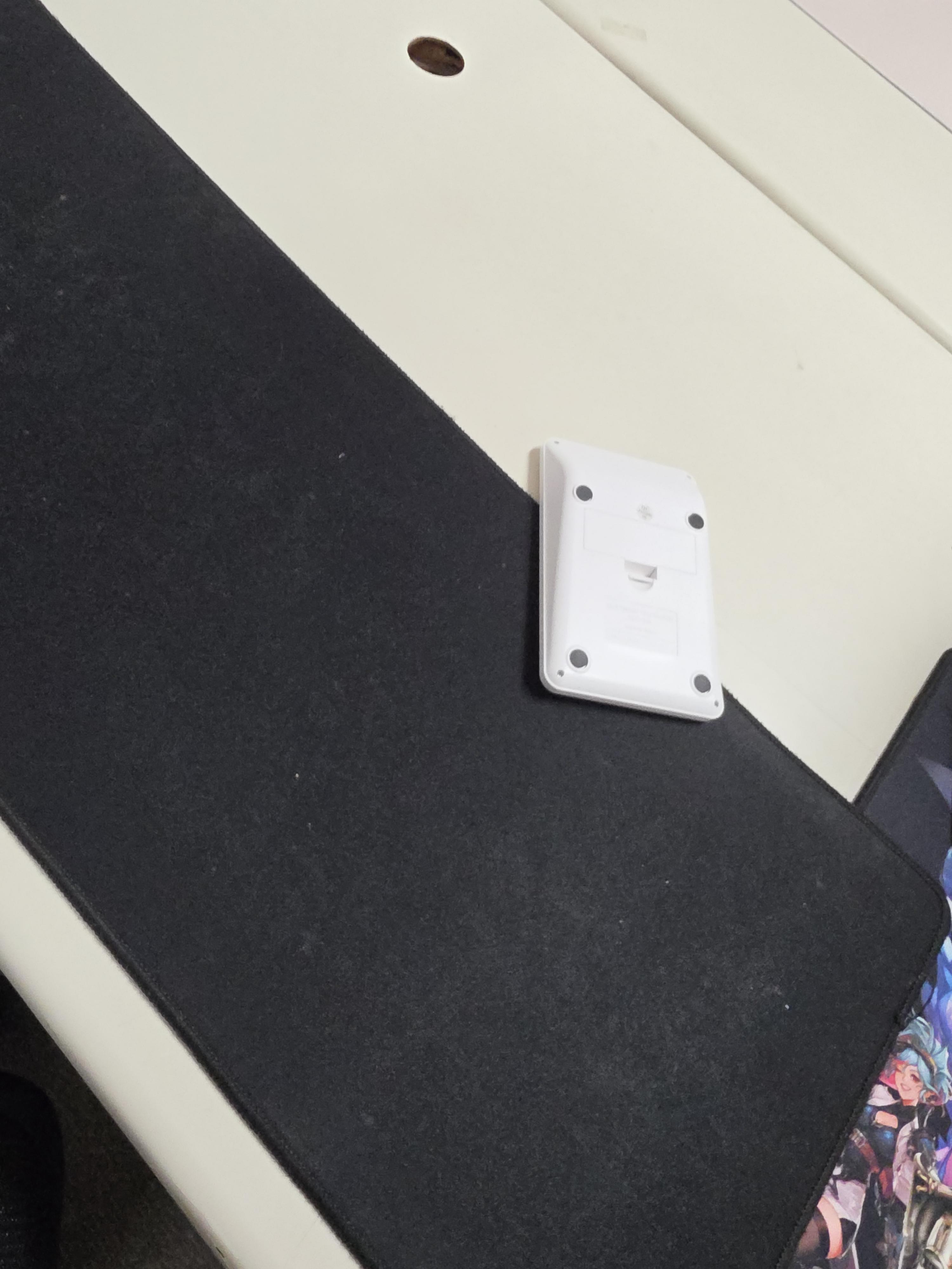calculator: (539, 438, 724, 722)
